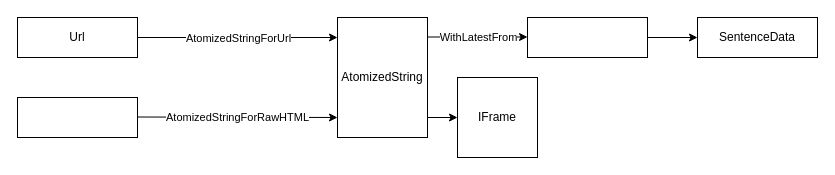
The diagram is 835 pixels wide and 175 high, and some of its shapes have lost their labels. The box of each missing label's shape, as (x1, y1, x2, y2) in pixels:
RawHTML: (16, 96, 138, 138)
Trie: (526, 16, 648, 58)
